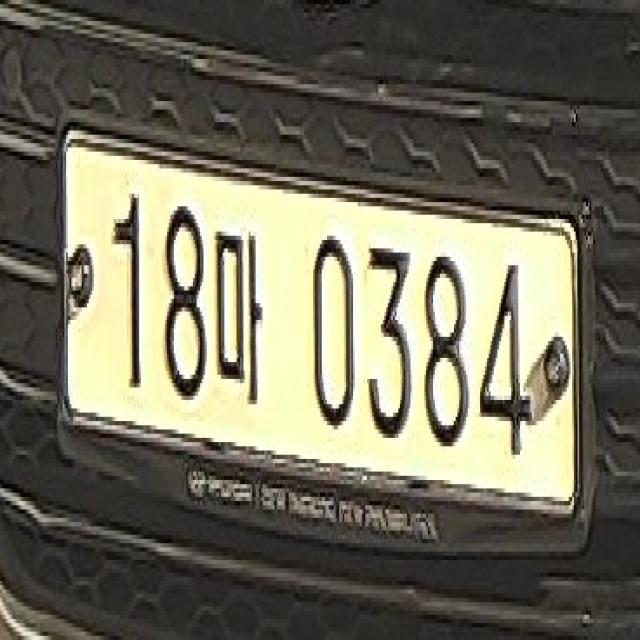0: (306, 219, 358, 434)
1: (108, 173, 149, 400)
3: (360, 232, 414, 446)
4: (480, 253, 532, 472)
8: (417, 240, 473, 459), (158, 185, 209, 408)
license_plate: (51, 105, 596, 573)
ma: (212, 206, 268, 417)
